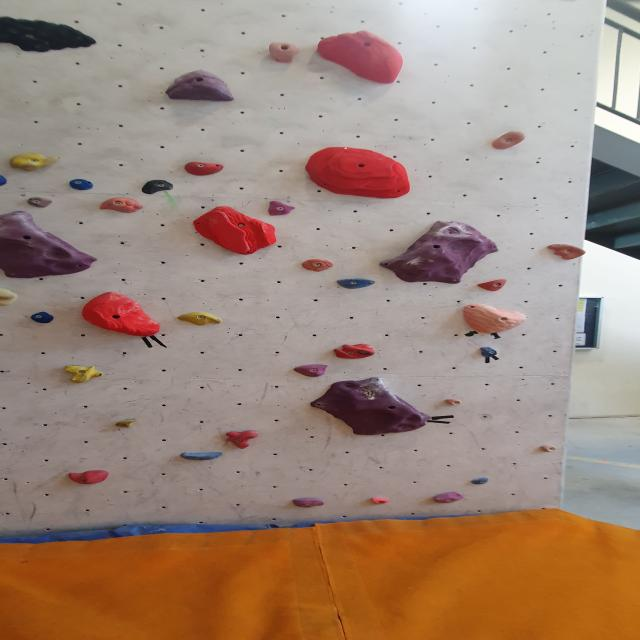Crimp: (375, 216, 501, 286), (308, 378, 429, 439), (0, 209, 97, 282), (303, 150, 417, 203), (175, 311, 228, 328), (183, 160, 228, 178), (333, 276, 381, 291), (430, 489, 469, 506), (476, 277, 511, 295), (299, 258, 336, 275), (267, 200, 299, 218), (180, 450, 228, 462), (27, 311, 60, 326), (65, 177, 99, 191), (291, 496, 327, 508), (476, 346, 506, 360), (110, 418, 142, 430), (25, 197, 54, 210), (467, 477, 495, 488), (442, 396, 466, 408), (537, 444, 559, 455), (370, 496, 392, 506), (0, 172, 12, 188)
Jug: (0, 2, 97, 52), (545, 242, 588, 264), (64, 363, 109, 384), (487, 130, 528, 152), (223, 430, 259, 449), (0, 286, 20, 307)
Pinch: (190, 204, 282, 257), (5, 151, 65, 172), (265, 42, 302, 66)
Pocket: (332, 344, 378, 361)
Sloper: (313, 30, 409, 87), (81, 295, 169, 342), (164, 68, 240, 105), (459, 300, 531, 336), (97, 197, 145, 216), (67, 468, 113, 485), (292, 362, 330, 378)
